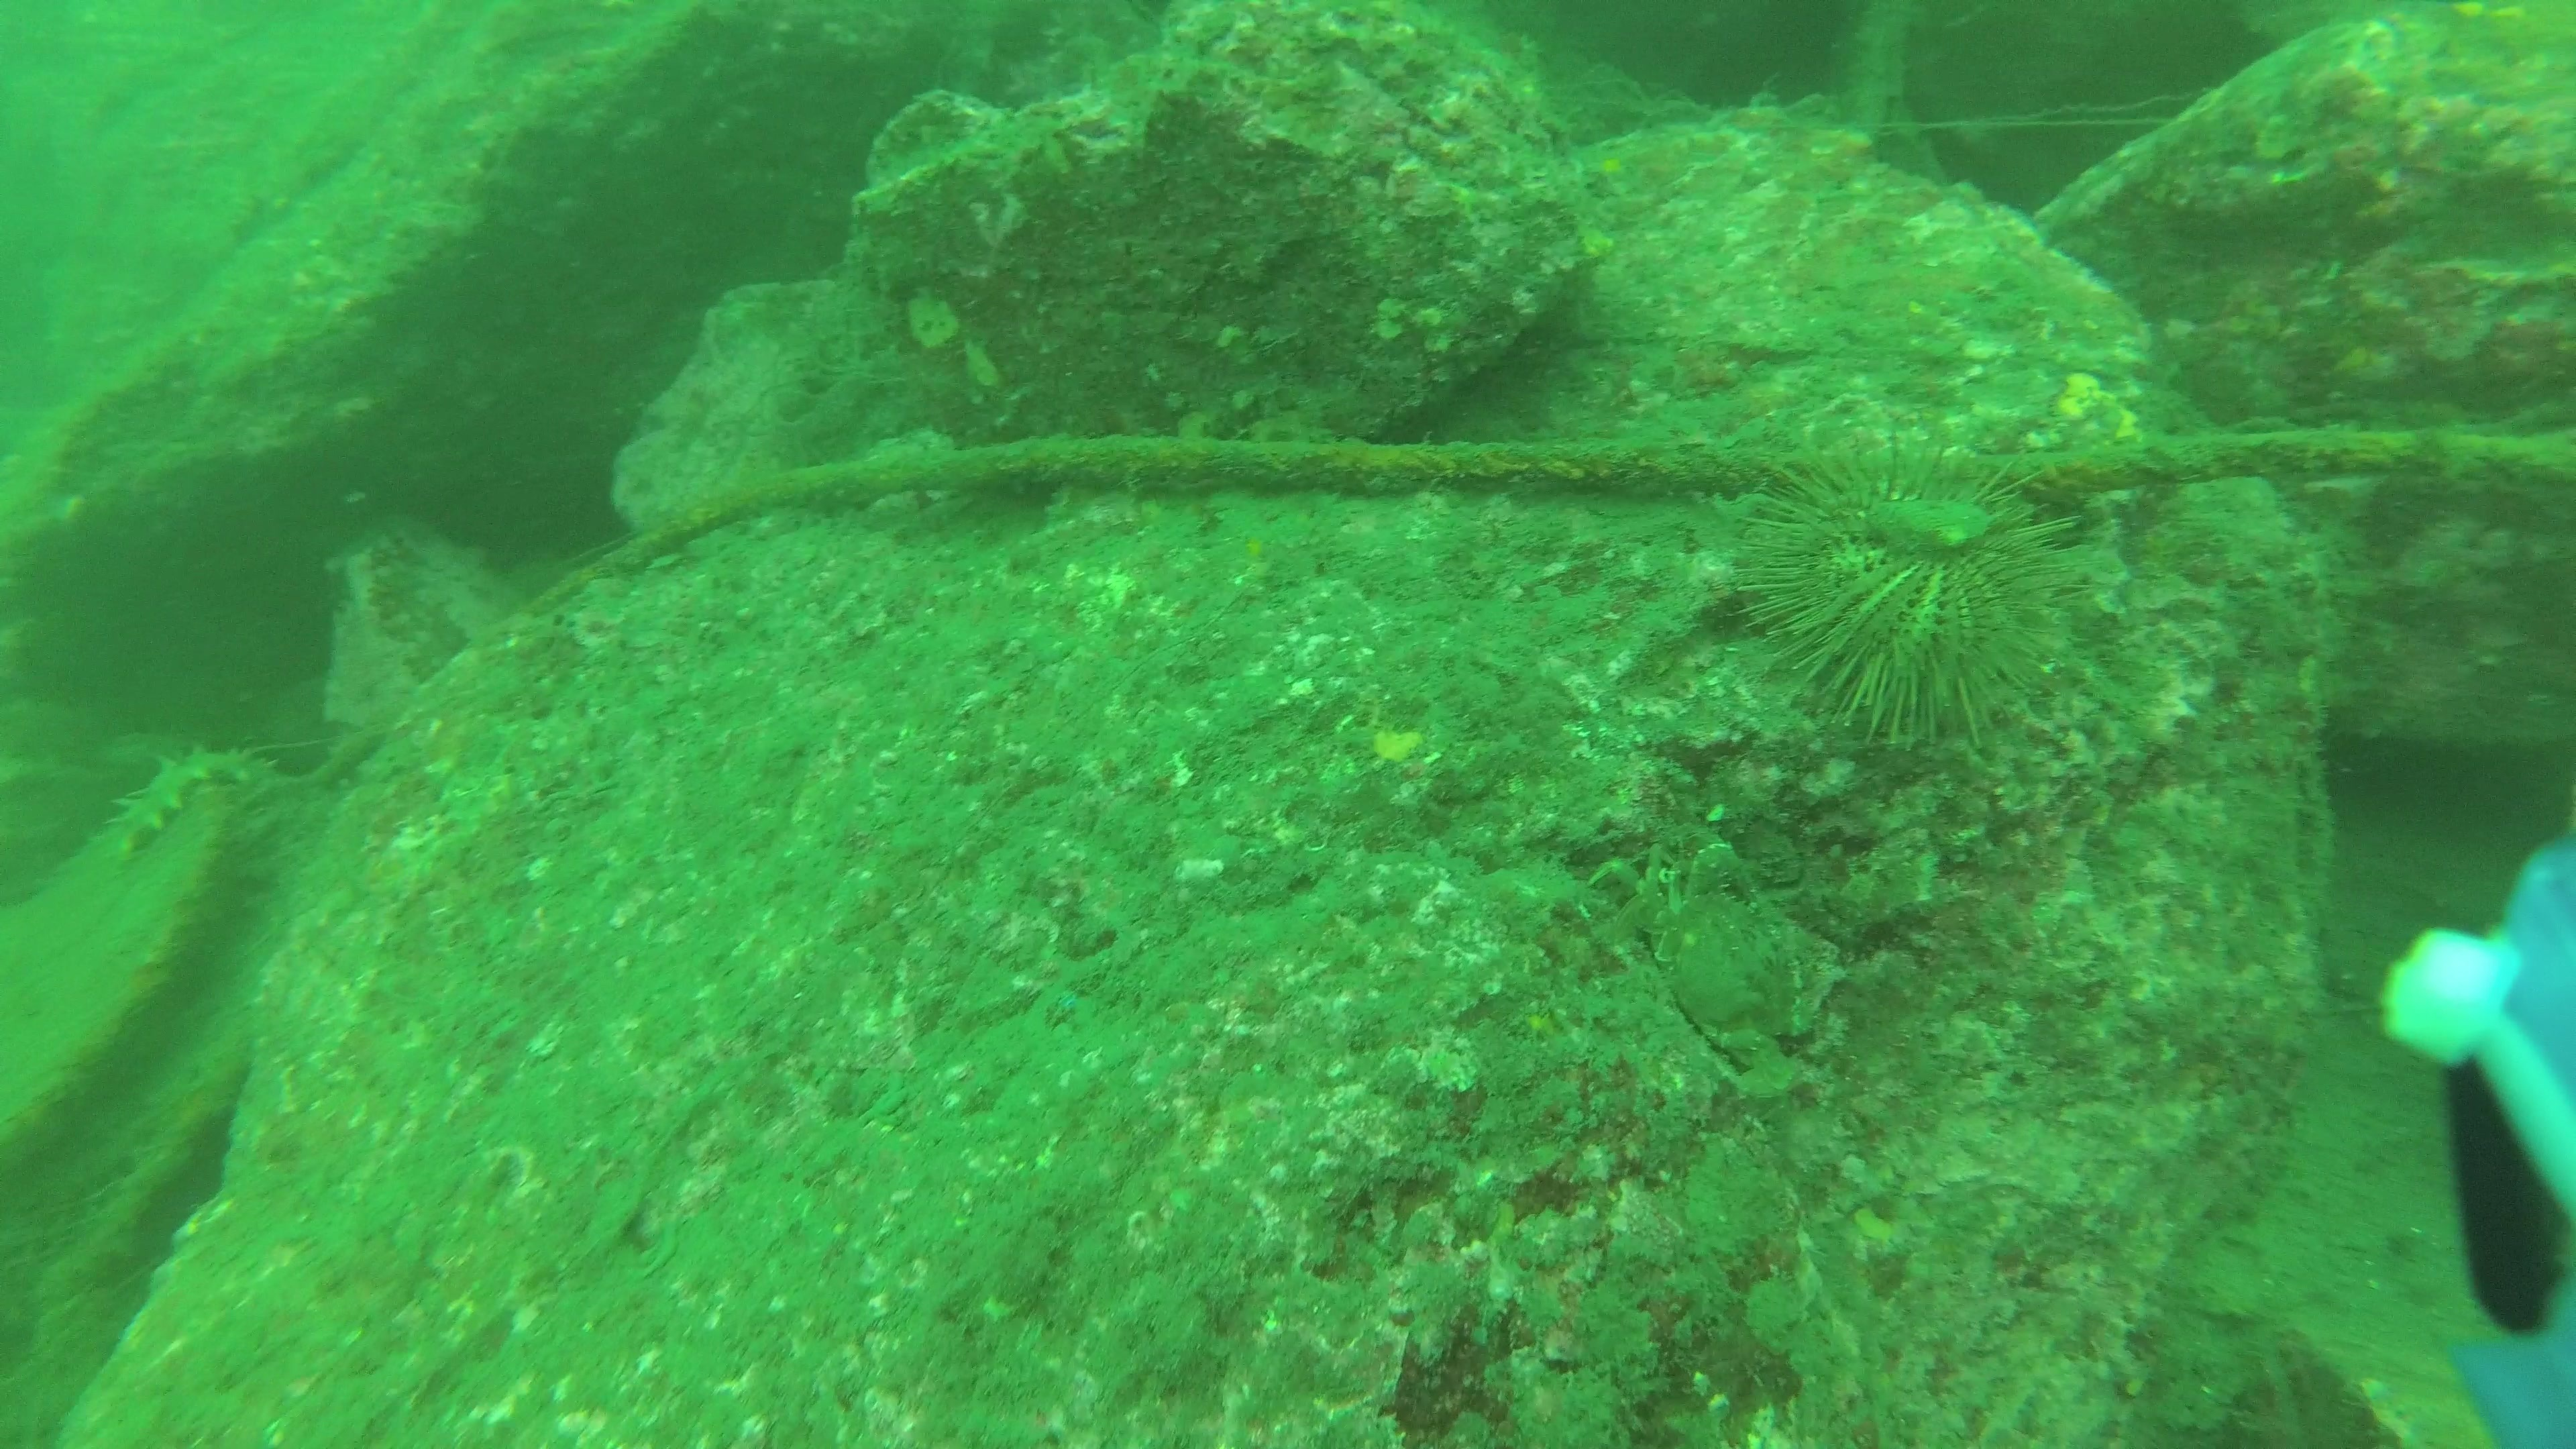echinus: (1736, 421, 2093, 752)
holothurian: (101, 741, 283, 870)
